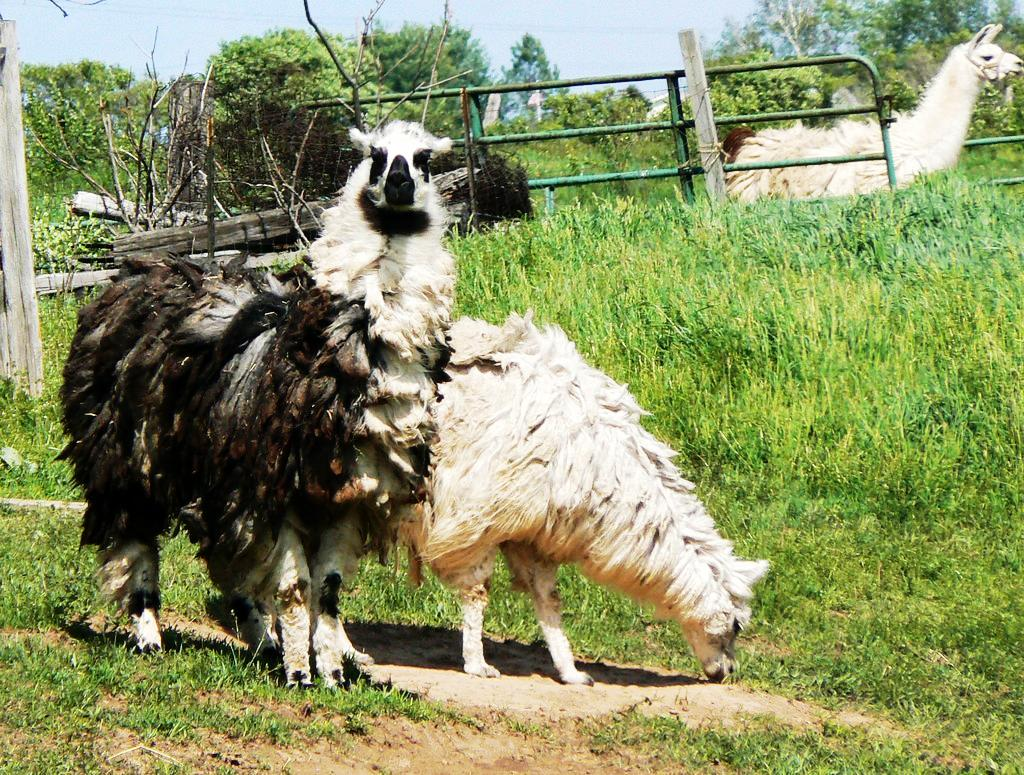Sheep: (50, 116, 450, 685), (257, 307, 770, 674), (720, 21, 1021, 198)
